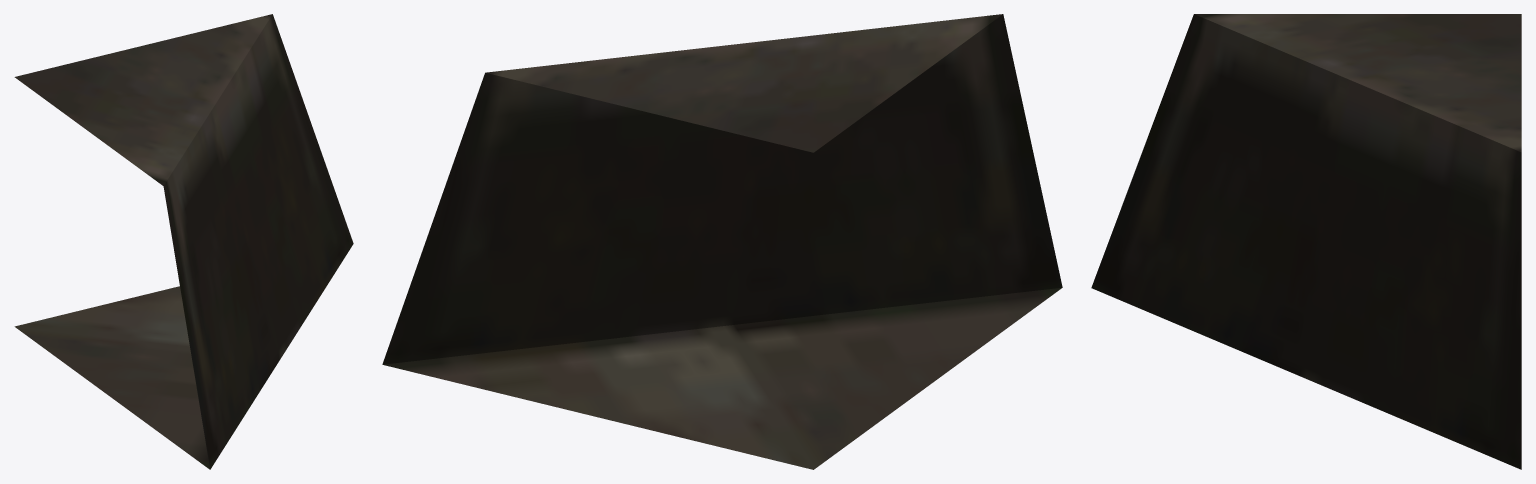
Rendered from fortress_cap_convex_01.fbx.
3 views of the same model, side by side, from view 1: azimuth 30°, elevation 25°; view 2: azimuth 150°, elevation 25°; view 3: azimuth 270°, elevation 25° (orthographic). The views are drawn at different scales.
Visible parts, largest first — view 1: fortress_tileset/Cap_01_mat; view 2: fortress_tileset/Cap_01_mat; view 3: fortress_tileset/Cap_01_mat.
Boxes of the visible parts, x1,y1,x2,y2 form: fortress_tileset/Cap_01_mat: (14, 14, 353, 469); fortress_tileset/Cap_01_mat: (382, 14, 1062, 469); fortress_tileset/Cap_01_mat: (1091, 14, 1521, 469).
Size of the model in its own units: 0.6806 by 0.4782 by 0.6806.
